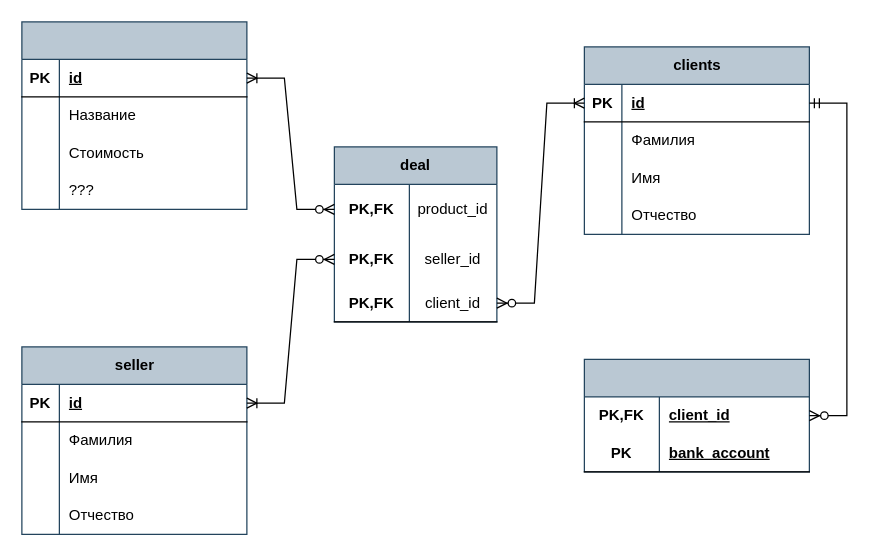
This 880x556 diagram has some shape labels left out. The shapes that lost their labels are listed below. From the top down, each one's box as (x1, y1, x2, y2) in pixels, then its label:
(21, 21, 247, 209): products
(583, 358, 809, 472): bank_accounts
